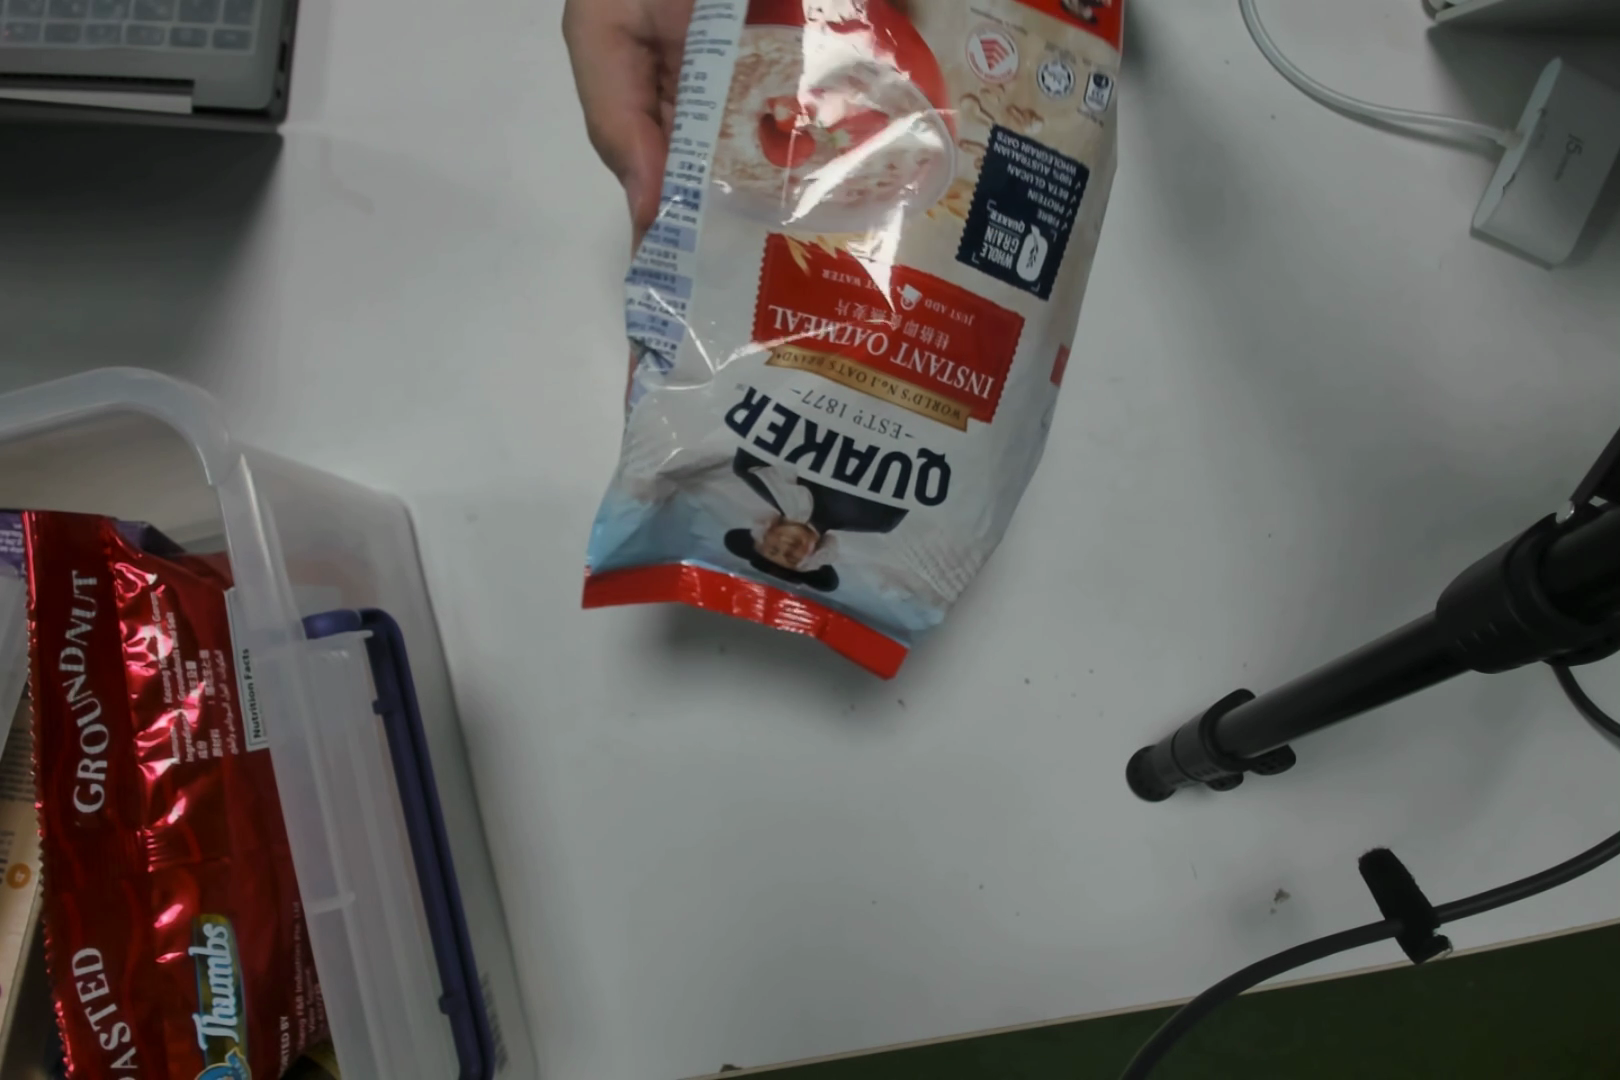RolledOatsInstantOatmeal_400-499g_Halal_Healthy: (659, 14, 1081, 635)
